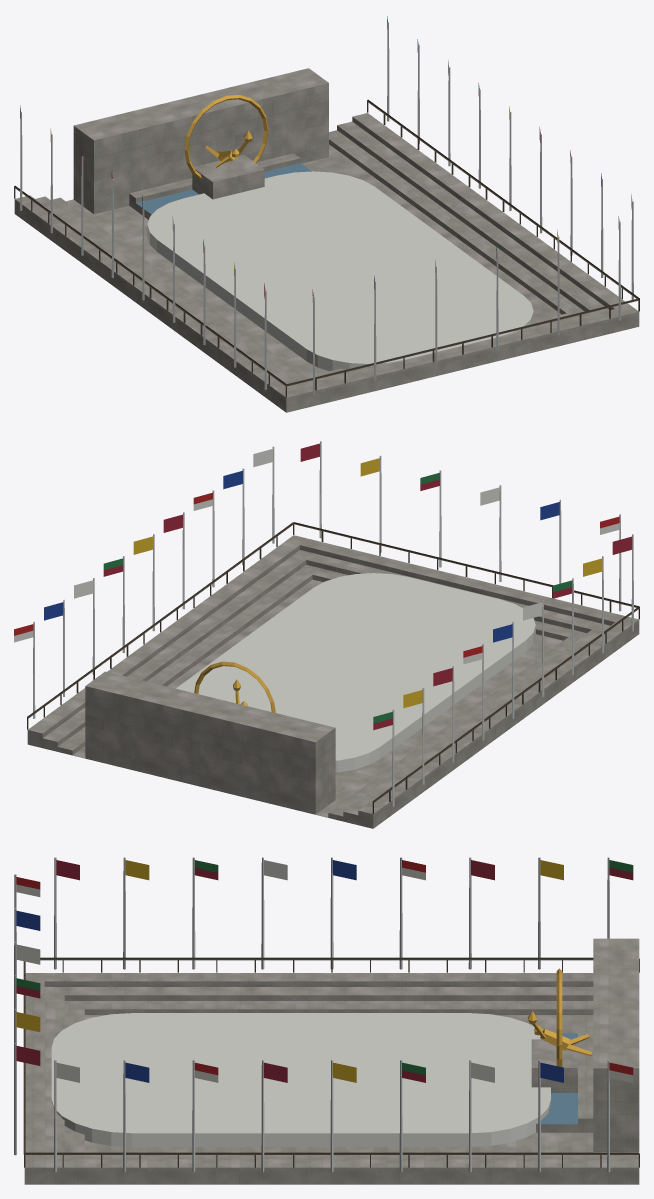
Rendered from rockefeller_rink.glb.
The picture shows the model from 3 angles, top to bottom: view 1: azimuth 30°, elevation 25°; view 2: azimuth 150°, elevation 25°; view 3: azimuth 270°, elevation 25°; orthographic projection. The views are drawn at different scales.
Parts seen in each view (by area): view 1: rockefeller_rink; view 2: rockefeller_rink; view 3: rockefeller_rink.
Part boxes in pixels (<box>): rockefeller_rink: <box>14,16,639,412</box>; rockefeller_rink: <box>14,441,639,828</box>; rockefeller_rink: <box>14,857,639,1184</box>.
Bounding box in the file's own units: 32.12 × 9.22 × 40.74.
Materials: 2 (2 with a texture image).
